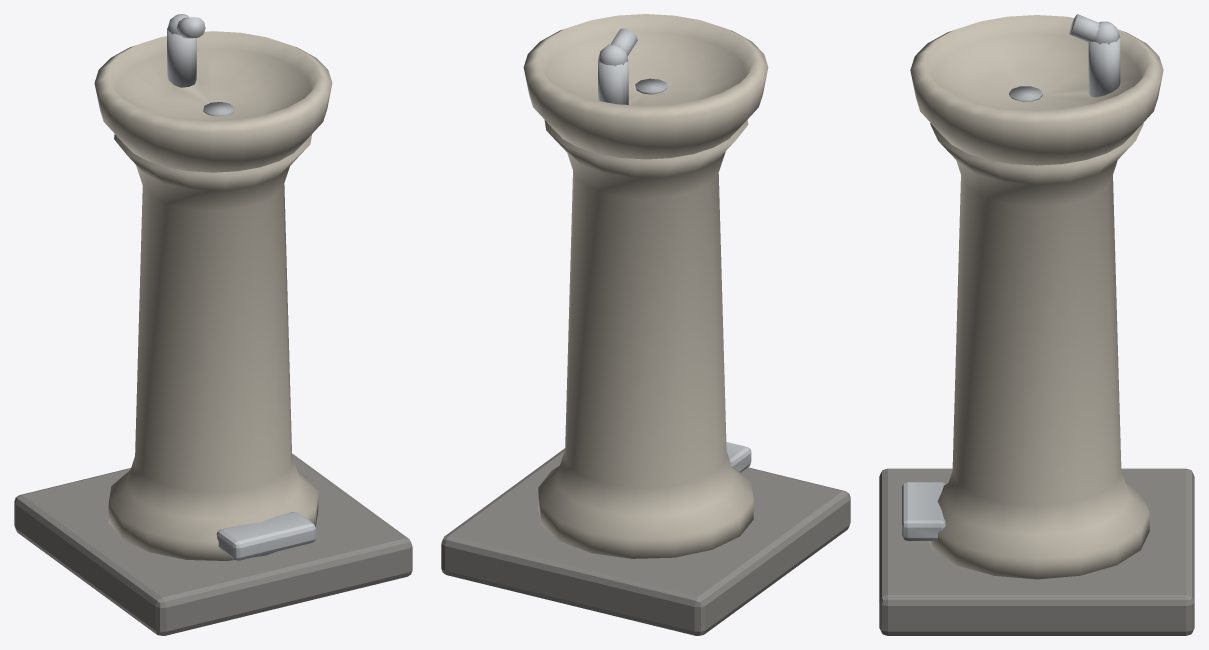
The model's file is drinkingFountain.glb.
3 renders of one model, left to right at view 1: azimuth 30°, elevation 25°; view 2: azimuth 150°, elevation 25°; view 3: azimuth 270°, elevation 25°, orthographic. The views are drawn at different scales.
Visible parts, largest first — view 1: drinkingFountain; view 2: drinkingFountain; view 3: drinkingFountain.
Boxes of the visible parts, left/top/right/bottom form: drinkingFountain: left=14, top=14, right=412, bottom=635; drinkingFountain: left=441, top=14, right=850, bottom=635; drinkingFountain: left=879, top=14, right=1194, bottom=635.
Bounding box in the file's own units: 0.56 × 1.09 × 0.56.
